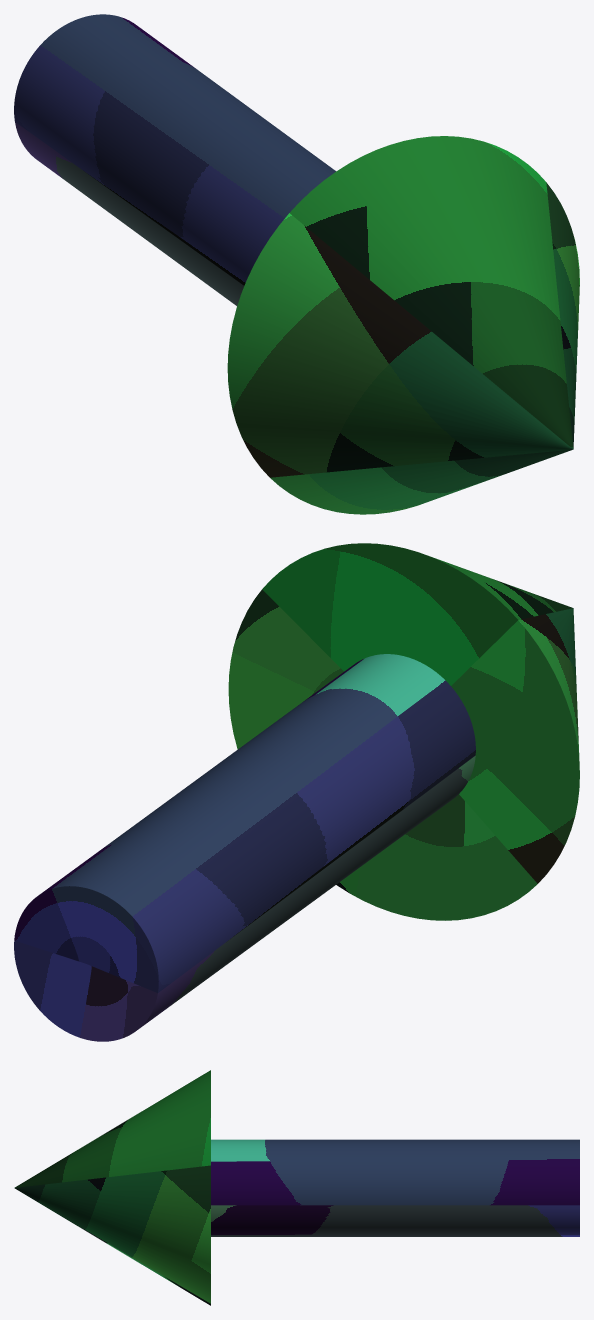
File: arrow_colored.fbx
3 views of the same model, one above another, from view 1: azimuth 30°, elevation 25°; view 2: azimuth 150°, elevation 25°; view 3: azimuth 270°, elevation 25° (orthographic). The views are drawn at different scales.
Parts seen in each view (by area): view 1: node_id42, node_id40; view 2: node_id40, node_id42; view 3: node_id40, node_id42.
Boxes of the visible parts, x1,y1,x2,y2 form: node_id42: (227,136,579,514); node_id40: (14,14,335,305); node_id40: (14,654,475,1041); node_id42: (228,543,579,920); node_id40: (211,1139,579,1236); node_id42: (14,1070,210,1305).
Bounding box in the file's own units: 0.2136 × 0.2136 × 0.512.
2 materials, 2 textured.
